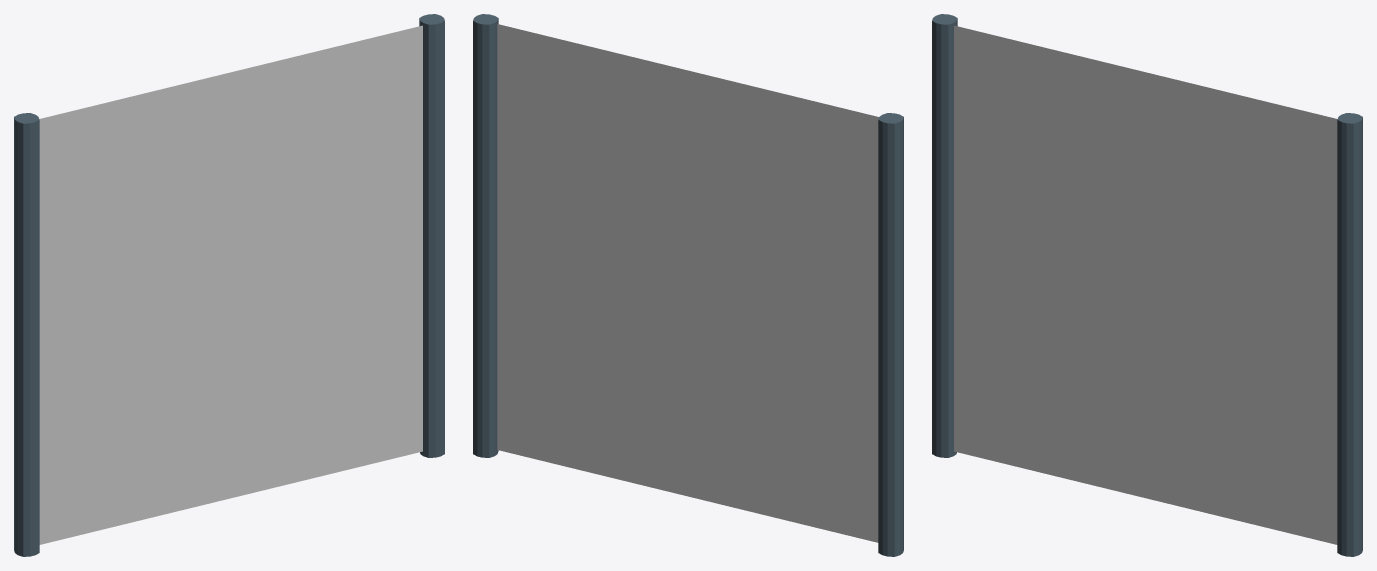
Rendered from power_up.fbx.
3 views of the same model, side by side, from view 1: azimuth 30°, elevation 25°; view 2: azimuth 150°, elevation 25°; view 3: azimuth 330°, elevation 25° (orthographic).
Visible parts, largest first — view 1: Plane.003, Cube.008; view 2: Plane.003, Cube.008; view 3: Plane.003, Cube.008.
Part boxes in pixels (box(x1,y1,x2,y2)): Plane.003: box(39, 25, 422, 544); Cube.008: box(14, 14, 444, 556); Plane.003: box(497, 24, 879, 542); Cube.008: box(473, 14, 903, 556); Plane.003: box(954, 25, 1337, 544); Cube.008: box(932, 14, 1362, 556).
Bounding box in the file's own units: 85.97 × 83.51 × 4.19.
